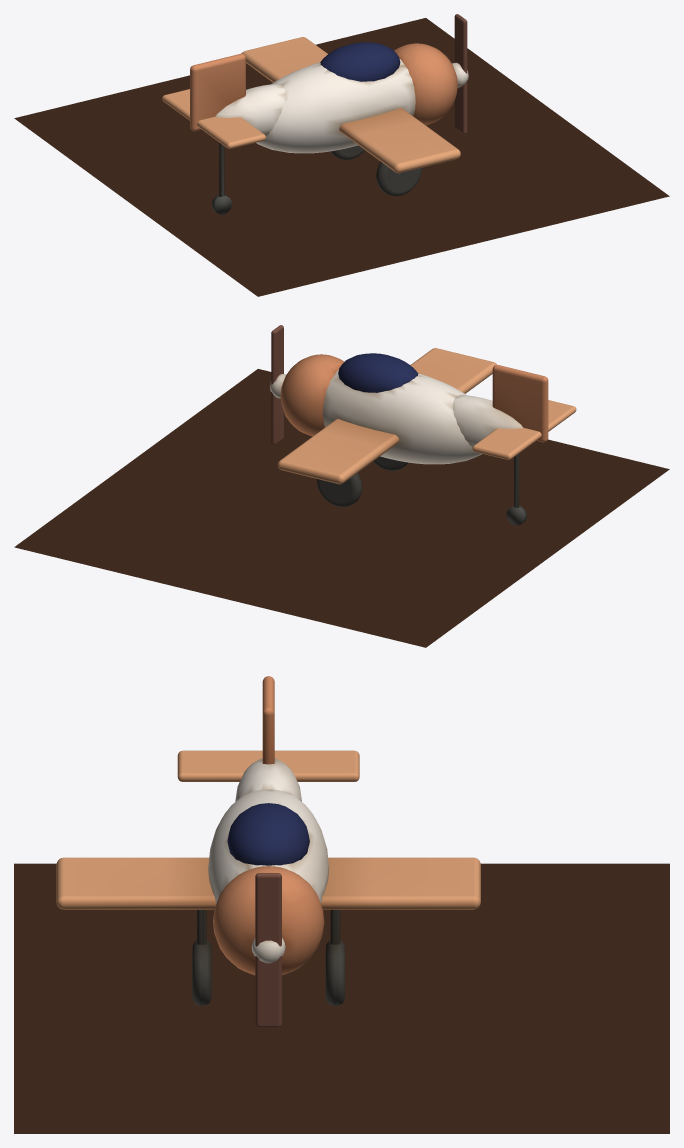
File: prop_plane.glb
The picture shows the model from 3 angles, top to bottom: view 1: azimuth 30°, elevation 25°; view 2: azimuth 150°, elevation 25°; view 3: azimuth 270°, elevation 25°; orthographic projection. The views are drawn at different scales.
Visible parts, largest first — view 1: baked_shadow, fuselage, wing, nose, fin, canopy, tailcone, stab, prop, wheel-1; view 2: baked_shadow, fuselage, wing, nose, fin, canopy, tailcone, stab, prop, wheel1; view 3: baked_shadow, wing, nose, fuselage, stab, canopy, prop, tailcone, wheel-1, wheel1, fin.
Part boxes in pixels (left/top/right/bottom): baked_shadow: left=14, top=18, right=669, bottom=296; fuselage: left=256, top=59, right=415, bottom=153; wing: left=241, top=37, right=460, bottom=173; nose: left=394, top=43, right=457, bottom=125; fin: left=190, top=53, right=245, bottom=131; canopy: left=320, top=42, right=400, bottom=81; tailcone: left=215, top=84, right=285, bottom=135; stab: left=162, top=89, right=265, bottom=148; prop: left=454, top=14, right=467, bottom=134; wheel-1: left=376, top=161, right=421, bottom=196; baked_shadow: left=14, top=369, right=669, bottom=647; fuselage: left=323, top=370, right=482, bottom=464; wing: left=277, top=348, right=496, bottom=484; nose: left=280, top=354, right=344, bottom=436; fin: left=492, top=365, right=548, bottom=442; canopy: left=338, top=353, right=418, bottom=392; tailcone: left=452, top=395, right=523, bottom=446; stab: left=472, top=400, right=576, bottom=459; prop: left=271, top=325, right=283, bottom=445; wheel1: left=316, top=473, right=362, bottom=507; baked_shadow: left=14, top=863, right=669, bottom=1133; wing: left=56, top=857, right=480, bottom=909; nose: left=213, top=866, right=324, bottom=975; fuselage: left=208, top=789, right=329, bottom=903; stab: left=177, top=750, right=359, bottom=781; canopy: left=227, top=803, right=309, bottom=865; prop: left=255, top=873, right=281, bottom=1027; tailcone: left=235, top=758, right=301, bottom=801; wheel-1: left=192, top=940, right=211, bottom=1006; wheel1: left=325, top=940, right=344, bottom=1006; fin: left=262, top=676, right=274, bottom=764.
Size of the model in its own units: 5.27 by 1.9 by 5.41.
Materials: 7 (1 with a texture image).
